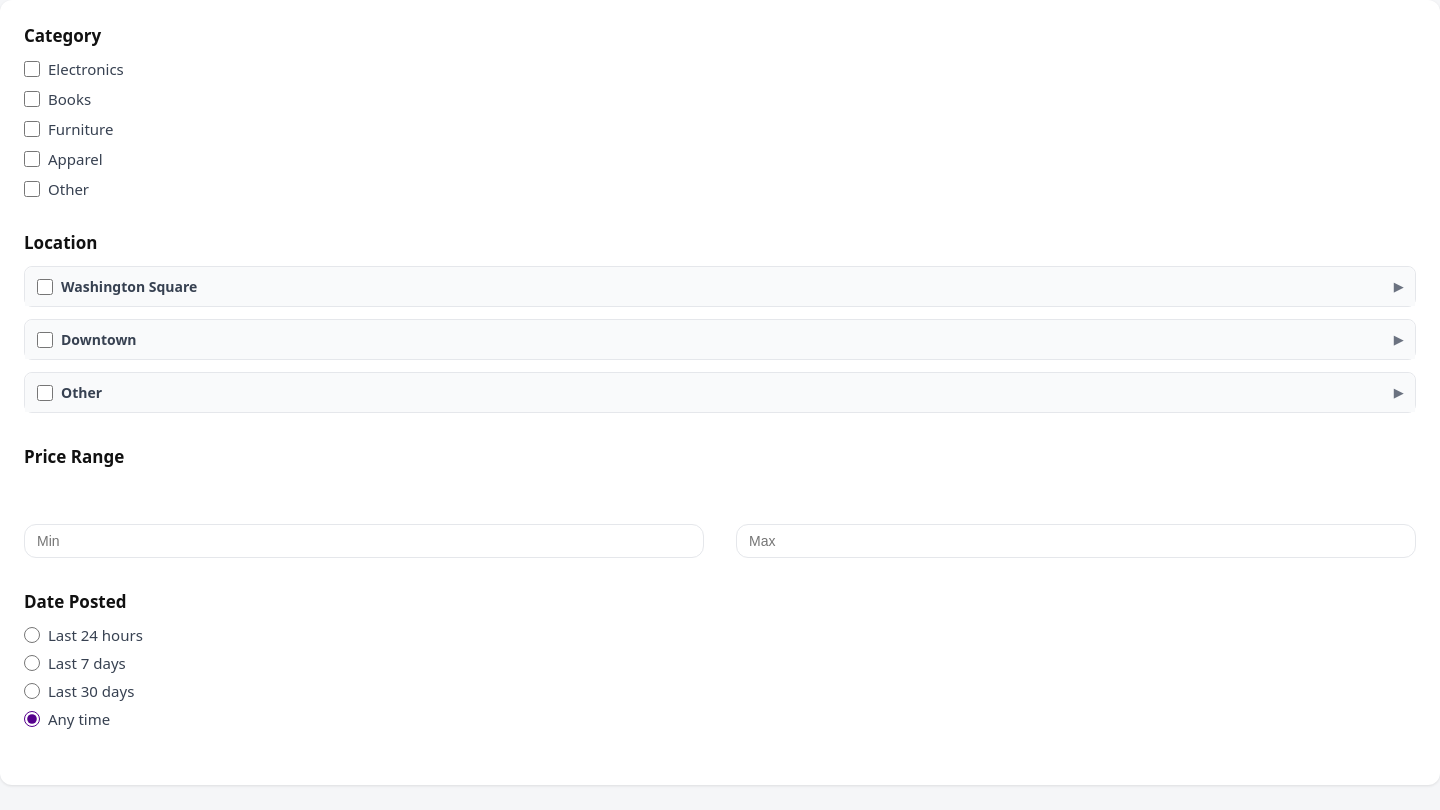
Test: Filters › validates maximum price must be >= minimum price
Step 1. Type "100" into the number field labelled "Min price" → (364, 541), box top-left (24, 524), bottom-right (704, 558)
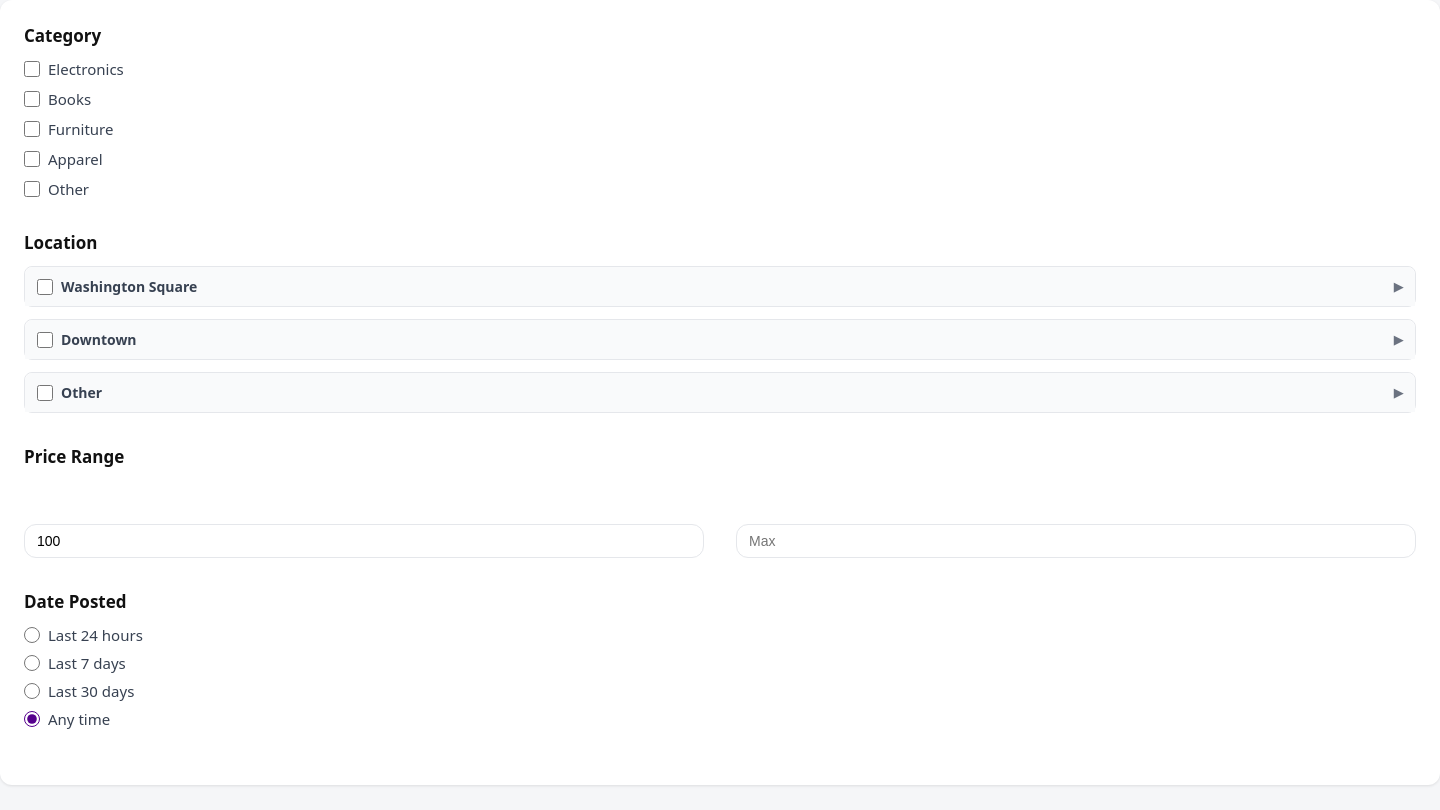
Step 2. Type "50" into the number field labelled "Max price" → (1076, 541), box top-left (736, 524), bottom-right (1416, 558)
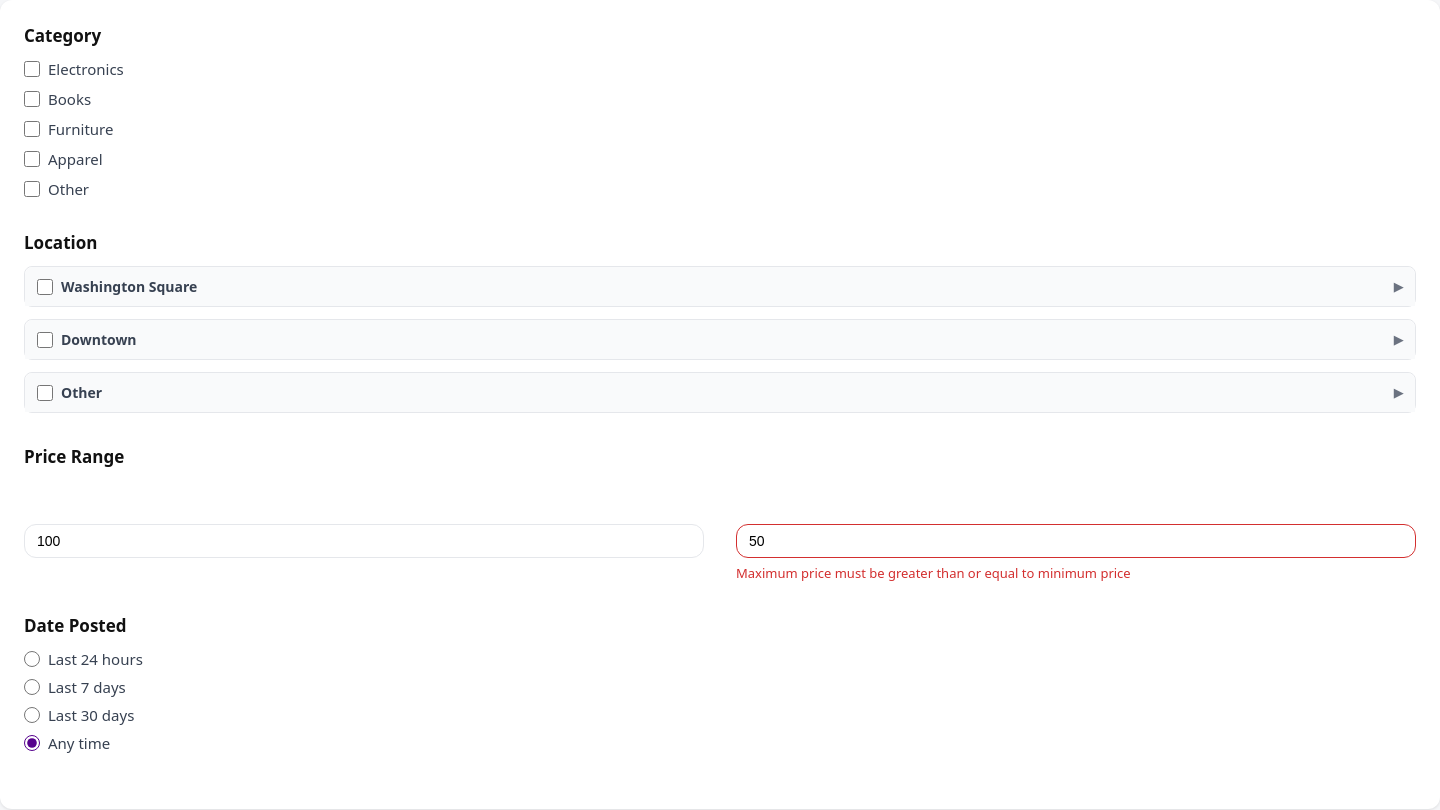
Result: the text "Maximum price must be greater than or equal to minimum price" is shown at top-left (736, 564), bottom-right (1131, 582)
